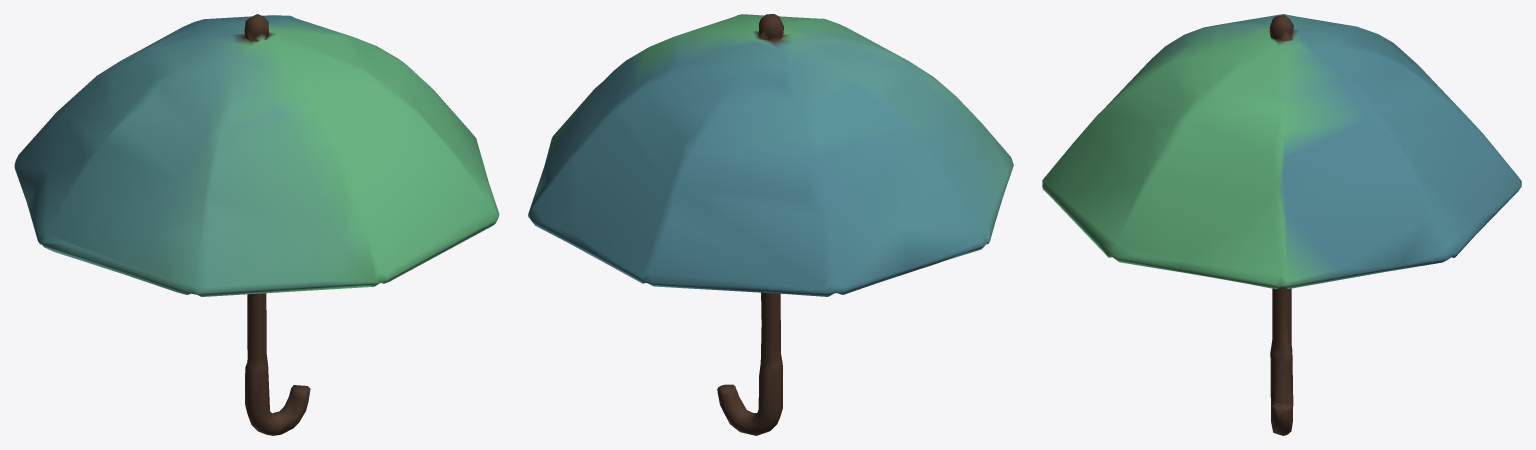
The model's file is gen3d-open-umbrella-lod1.glb.
3 renders of one model, left to right at view 1: azimuth 30°, elevation 25°; view 2: azimuth 150°, elevation 25°; view 3: azimuth 270°, elevation 25°, orthographic. The views are drawn at different scales.
Parts seen in each view (by area): view 1: part_0; view 2: part_0; view 3: part_0.
Boxes of the visible parts, left/top/right/bottom form: part_0: left=14, top=14, right=499, bottom=435; part_0: left=528, top=14, right=1013, bottom=435; part_0: left=1042, top=14, right=1521, bottom=435.
Size of the model in its own units: 1.07 by 0.9989 by 1.07.
